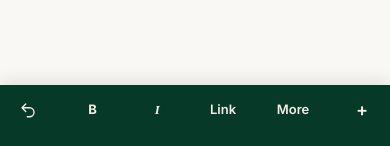
Test: ArticleMobileToolbar › asks for a selection instead of linking nothing
Click the button "Link": click(223, 110) [200,88,246,132]
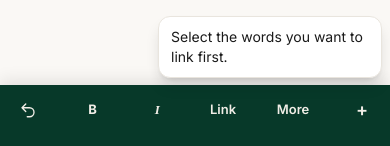
Expected: the message reads "Select the words you want to link first.", [171,28,363,65]
